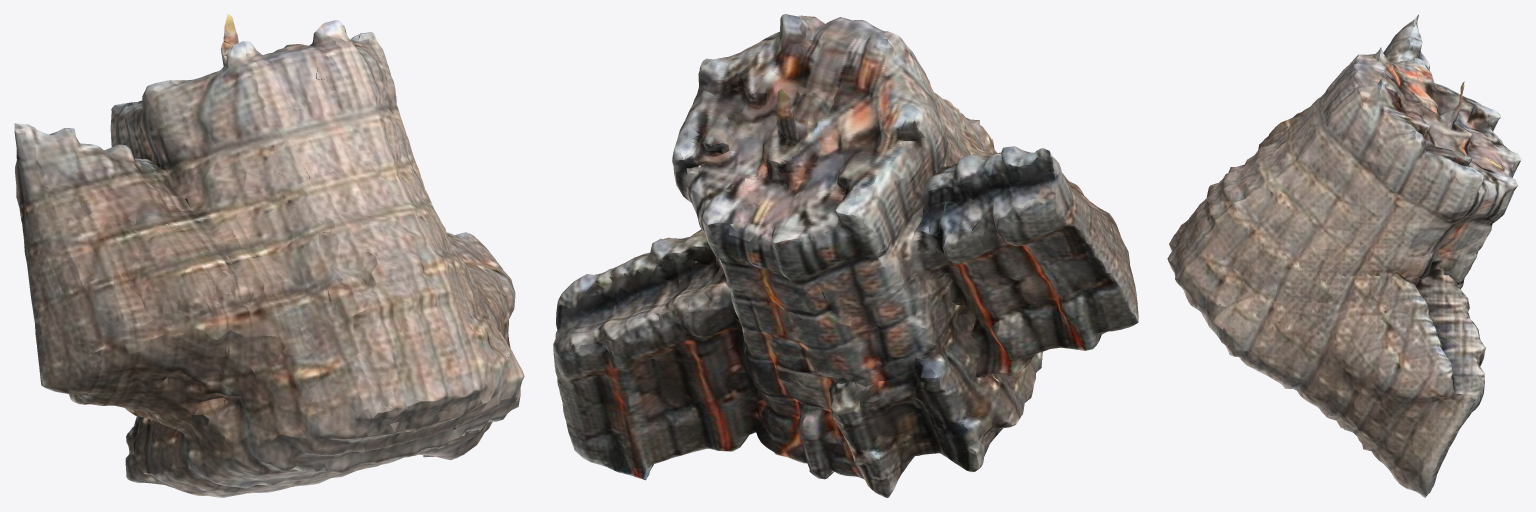
File: titanforge_cyclopean_wall_1792778221715.glb
The picture shows the model from 3 angles, left to right: view 1: azimuth 30°, elevation 25°; view 2: azimuth 150°, elevation 25°; view 3: azimuth 270°, elevation 25°; orthographic projection. The views are drawn at different scales.
Visible parts, largest first — view 1: geometry_0; view 2: geometry_0; view 3: geometry_0.
Part boxes in pixels (<box>): geometry_0: <box>14,14,524,497</box>; geometry_0: <box>553,14,1138,497</box>; geometry_0: <box>1167,14,1521,497</box>.
Size of the model in its own units: 0.9456 by 0.8478 by 0.7577.
Materials: 1 (1 with a texture image).
